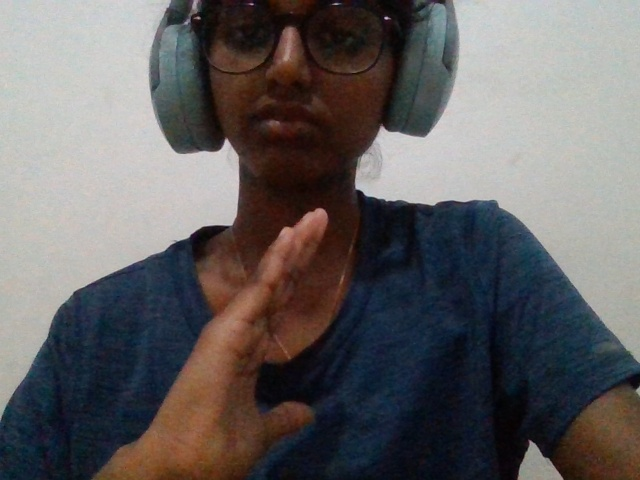Fine: (149, 165, 365, 480)
